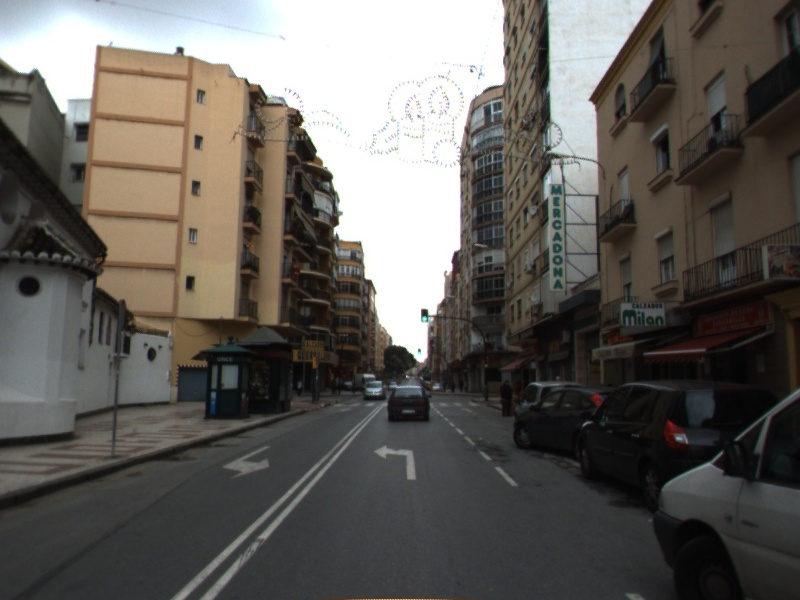LEFT: (372, 443, 418, 481)
